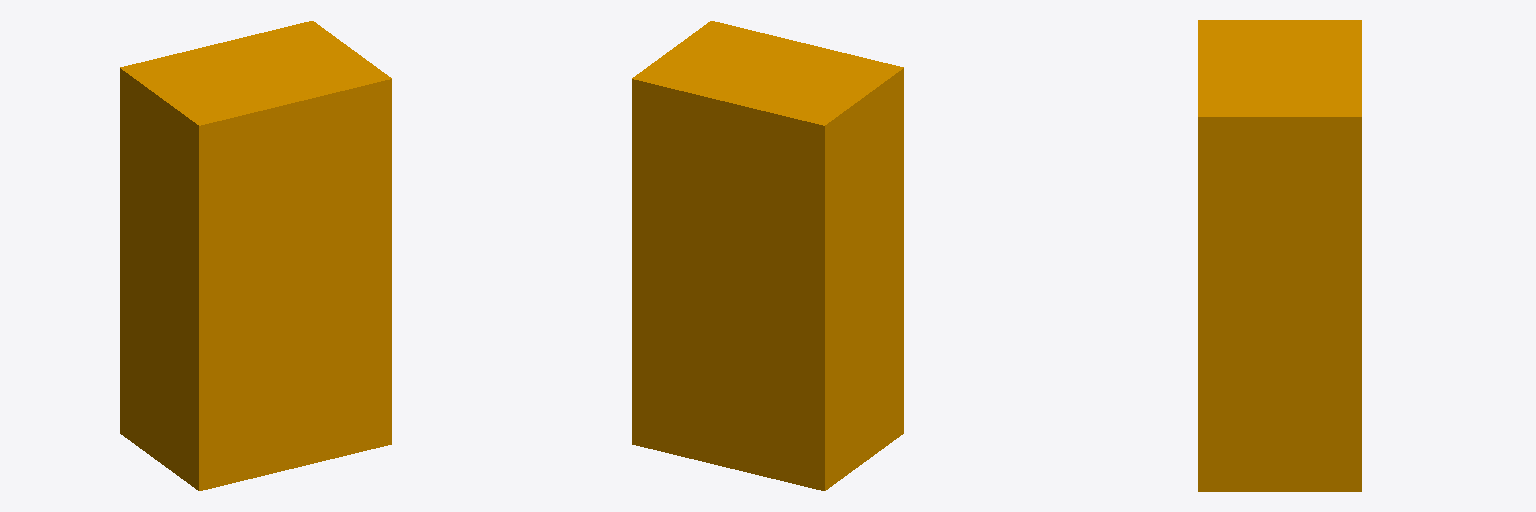
The robot description file, URDF, robot "cylinder":
<?xml version="1.0"?>
<robot name="cylinder">
  <link name="base_link">
    <inertial>
      <mass value="4.66"/>
      <inertia ixx="0.10" ixy="2.4-05" ixz="0.0071" iyy="0.08" iyz="-0.00131733" izz="0.086493"/>
      <origin xyz="0 0 0.0"/>
    </inertial>
		<visual> <origin xyz="0.0 -0.0 0.02615" rpy="0.0 0.0 1.5708"/> <geometry> <box size="0.08 0.112 0.2025"/> </geometry> </visual> 
		<collision> <origin xyz="0.0 -0.0 0.02615" rpy="0.0 0.0 1.5708"/> <geometry> <box size="0.08 0.112 0.2025"/> </geometry> </collision> 
  </link>
</robot>

--- What the picture shows (computed from the rendered views, not written in the file) ---
3 views of the same robot in one strip: view 1: azimuth 30°, elevation 25°; view 2: azimuth 150°, elevation 25°; view 3: azimuth 270°, elevation 25° (orthographic).
Model cylinder with 1 links and 0 joints (none), rooted at base_link, posed every joint at zero.
Visible links, largest first — view 1: base_link; view 2: base_link; view 3: base_link.
Boxes of the visible links, left/top/right/bottom form: base_link: left=120, top=21, right=391, bottom=490; base_link: left=632, top=21, right=903, bottom=490; base_link: left=1198, top=20, right=1361, bottom=491.
Bounding box of the posed robot: 0.112 × 0.08 × 0.2025 m (x, y, z).
Geometry: primitives only (box / cylinder / sphere), no mesh files.